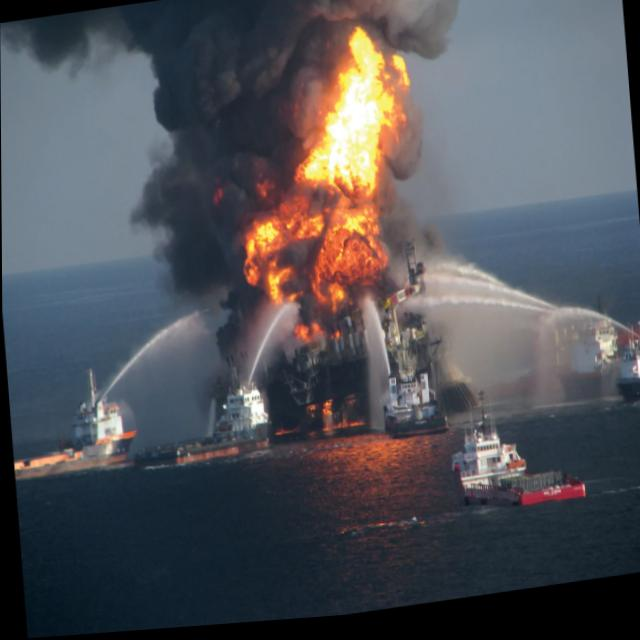Fire: (226, 17, 427, 369)
